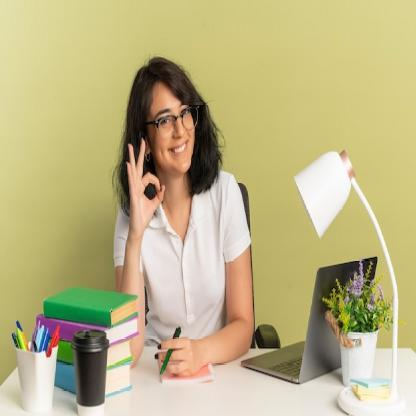ok: (124, 137, 167, 232)
